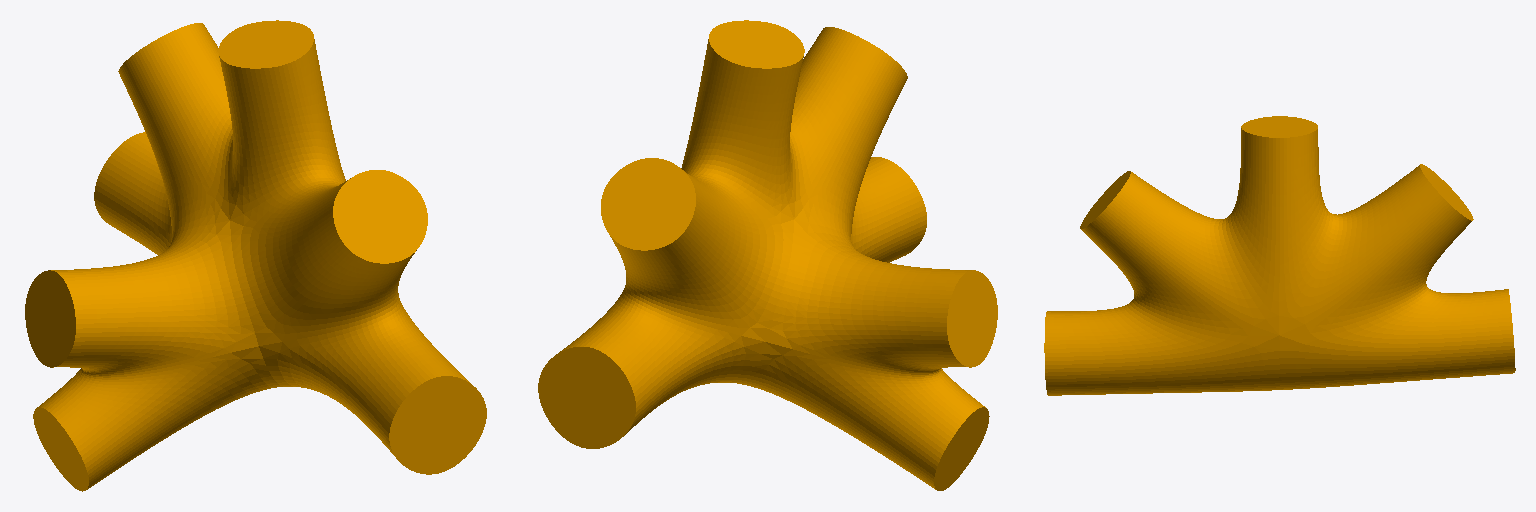
robot.urdf — object:
<robot name="object">
  <link name="object">
    <visual>
      <origin xyz="0 0 0"/>
      <geometry>
        <mesh filename="visual.obj" scale="1 1 1"/>
      </geometry>
    </visual>
    <collision>
      <origin xyz="0 0 0"/>
      <geometry>
        <mesh filename="visual.obj" scale="1 1 1"/>
      </geometry>
    </collision>
    <inertial>
      <mass value="0.05"/>
      <inertia ixx="2.2808540778366595e-05" iyy="1.3183144322112389e-05" izz="2.1818089391968044e-05" ixy="1.0547629815822695e-07" ixz="-1.962018154722509e-06" iyz="-5.391337935180903e-07"/>
    </inertial>
  </link>
</robot>

--- Facts derived from the render (not from the file) ---
Views: 3 orthographic renders of the robot side by side, from view 1: azimuth 30°, elevation 25°; view 2: azimuth 150°, elevation 25°; view 3: azimuth 270°, elevation 25°.
Model object with 1 links and 0 joints (none), rooted at object, posed all joints at 0.
Visible links, largest first — view 1: object; view 2: object; view 3: object.
Boxes of the visible links, x1=… form: object: x1=25, y1=20, x2=486, y2=491; object: x1=538, y1=20, x2=997, y2=490; object: x1=1044, y1=116, x2=1515, y2=395.
Size in the robot's own frame: 0.0516 by 0.0871 by 0.0645 metres.
Meshes: 1 distinct files referenced, 1 mesh visuals loaded (1 OBJ).
